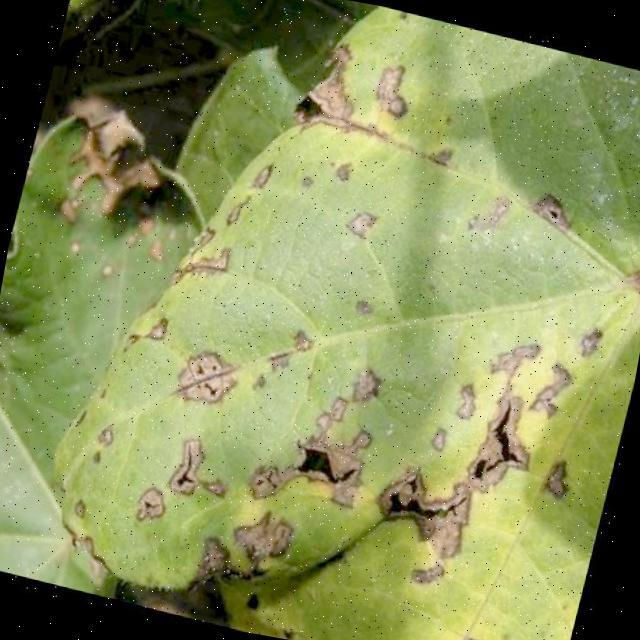Bacterial: (202, 243, 588, 622)
